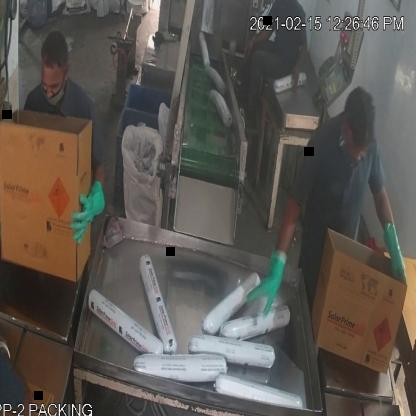glove: (241, 235, 289, 328), (371, 208, 412, 294), (62, 177, 108, 247)
no_glove: (244, 26, 278, 66), (292, 39, 312, 97)
